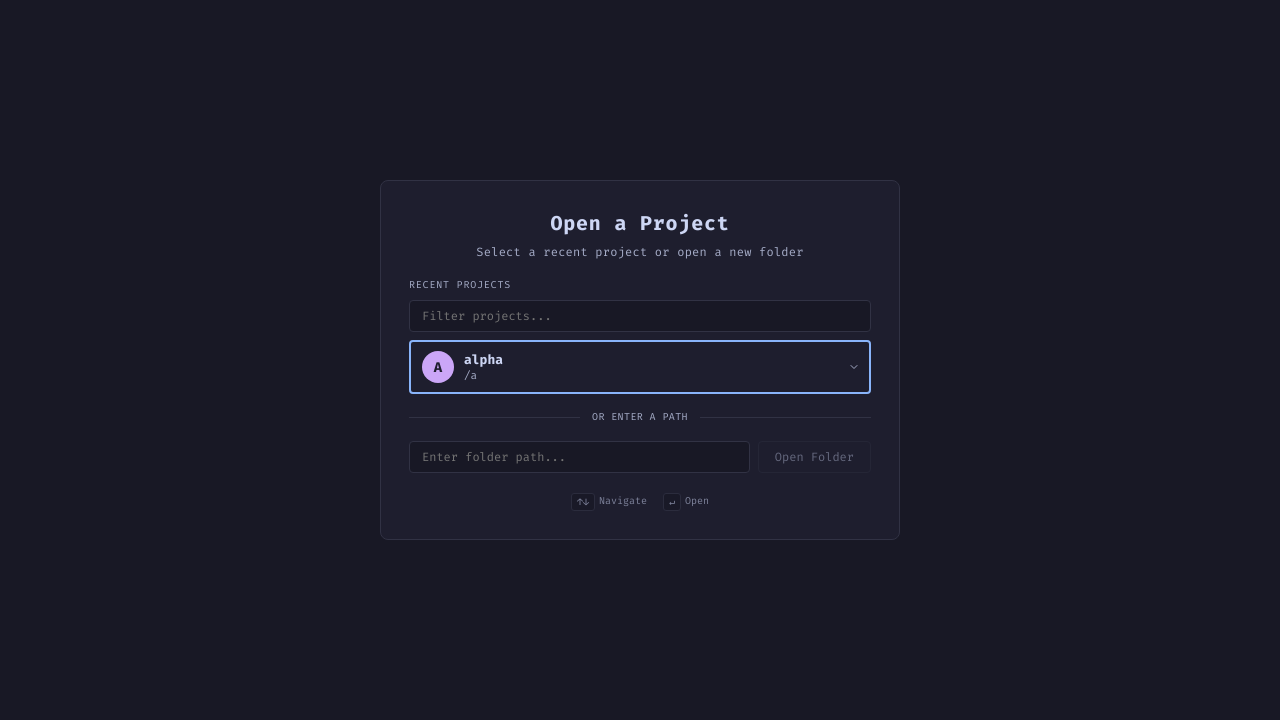
ProjectPicker › search filtering › clears search when Clear search button is clicked
This screenshot has width=1280, height=720.
Type "zzzznonexistent" into the field with placeholder "Filter projects..." at {"x": 640, "y": 316}, box [409, 300, 871, 332]
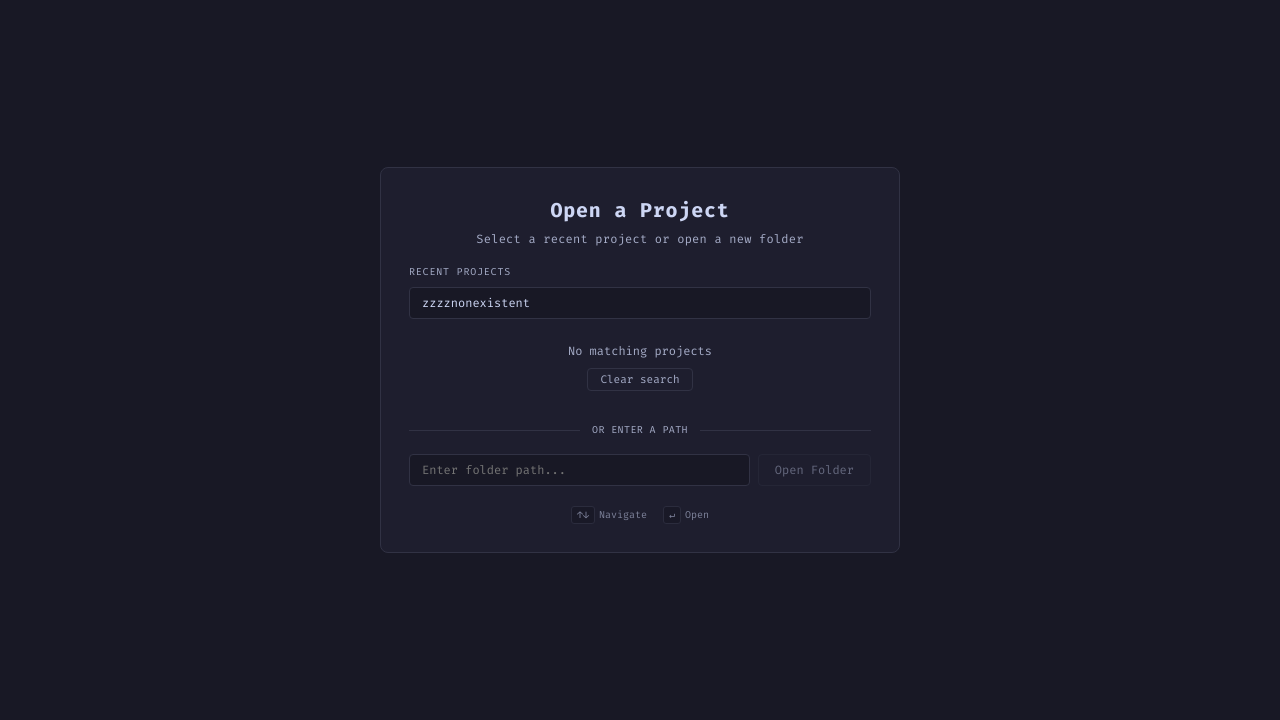
Check: the text "No matching projects" is shown, box [568, 343, 712, 360]
Click the button "Clear search" at {"x": 640, "y": 380}, box [587, 368, 693, 391]
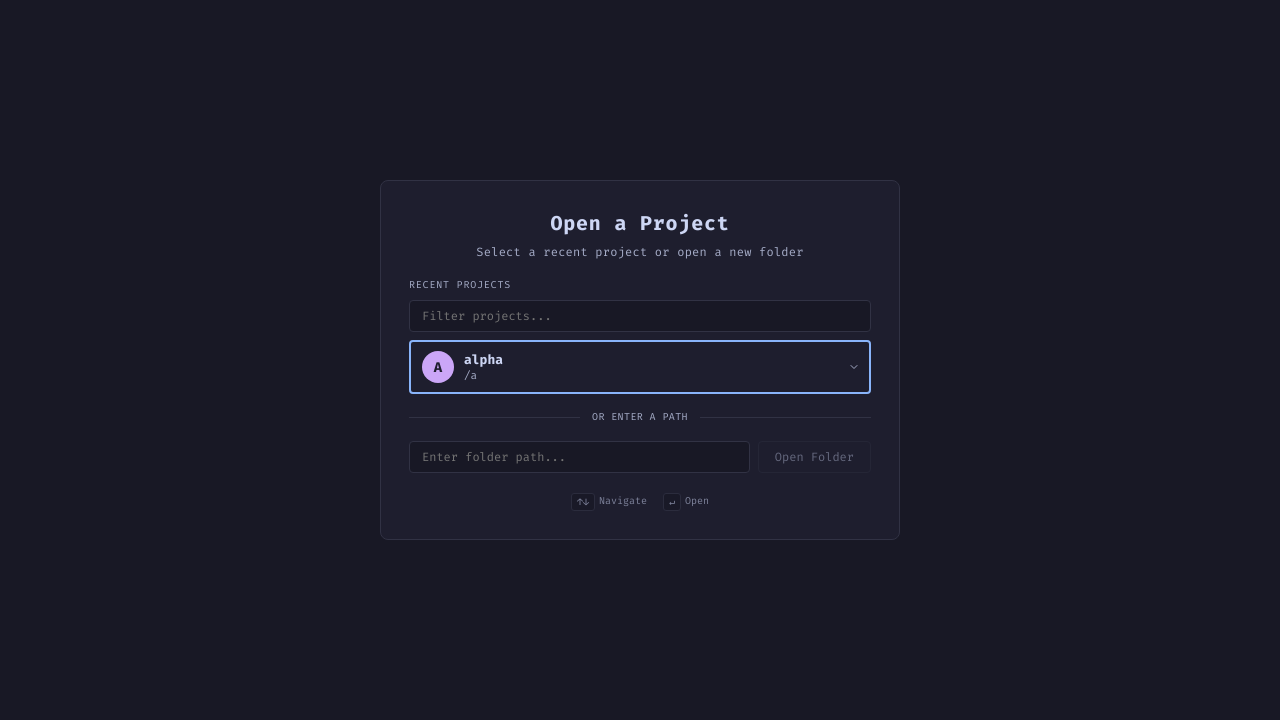
Check: the text "alpha" is shown, box [464, 352, 503, 367]
Check: the text "No matching projects" is gone
